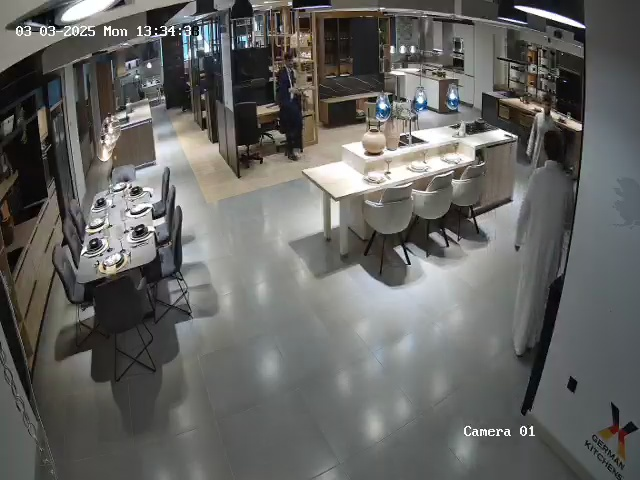employee: (277, 51, 304, 161)
male: (503, 125, 578, 363), (521, 83, 558, 167)
